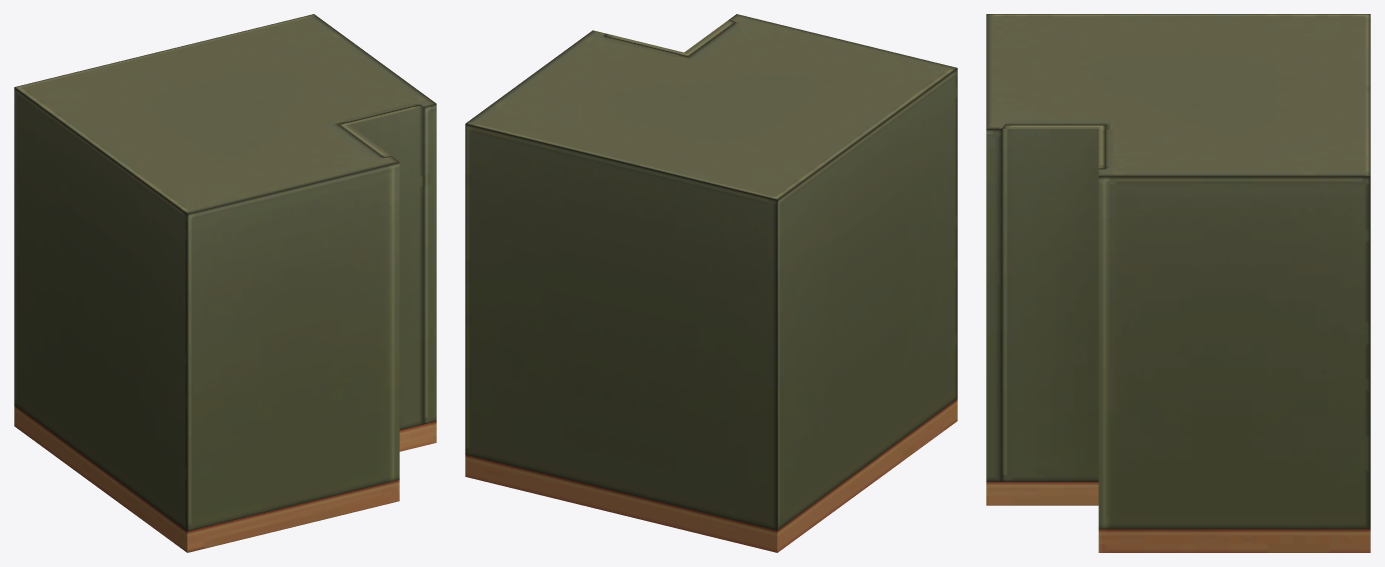
Rendered from superiorEsquina.fbx.
3 views of the same model, side by side, from view 1: azimuth 30°, elevation 25°; view 2: azimuth 150°, elevation 25°; view 3: azimuth 270°, elevation 25° (orthographic). The views are drawn at different scales.
Visible parts, largest first — view 1: s4studio_mesh_0; view 2: s4studio_mesh_0; view 3: s4studio_mesh_0.
Boxes of the visible parts, x1,y1,x2,y2 form: s4studio_mesh_0: (14, 14, 436, 552); s4studio_mesh_0: (465, 14, 957, 552); s4studio_mesh_0: (986, 14, 1370, 552).
Size of the model in its own units: 92.5 by 99.98 by 92.5.
Materials: 1 (1 with a texture image).
